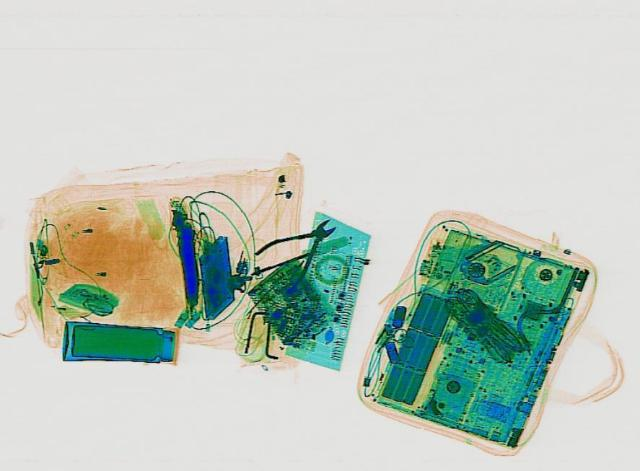Pliers: (238, 206, 360, 291)
